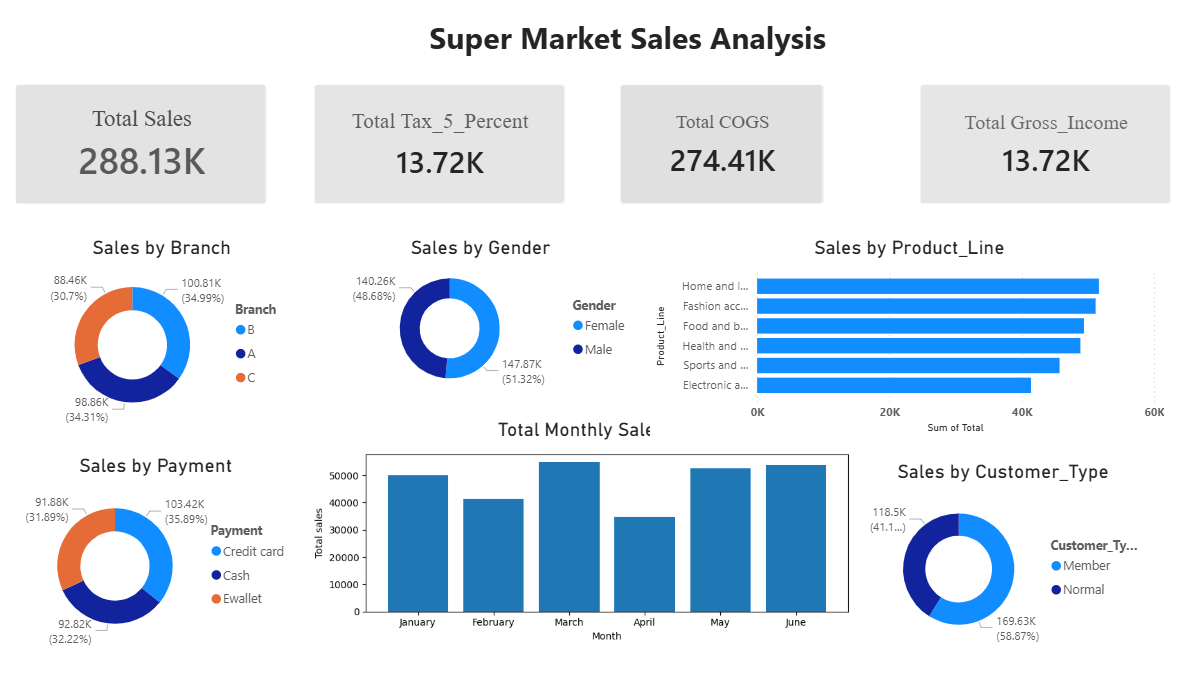

The page's visual inventory and layout, read from the dashboard file:
{"tool":"powerbi","page":{"name":"Page 1","canvas":[1280,720],"ordinal":0},"visuals":[{"type":"shape","box":[0,0,1278.9,721.1],"z":0},{"type":"textbox","box":[446.6,12.3,438.4,60.3],"z":1000},{"type":"cardVisual","fields":{"Data":["Sum(supermarket_sales_eda_processed.Total)"]},"box":[0,72.4,300,161.8],"z":2000},{"type":"cardVisual","fields":{"Data":["Sum(supermarket_sales_eda_processed.Tax_5_Percent)"]},"box":[315.8,73.7,300,161.8],"z":3000},{"type":"cardVisual","fields":{"Data":["Sum(supermarket_sales_eda_processed.COGS)"]},"box":[639.5,73.7,250,161.8],"z":4000},{"type":"cardVisual","fields":{"Data":["Sum(supermarket_sales_eda_processed.Gross_Income)"]},"box":[956.6,72.4,300,161.8],"z":5000},{"type":"donutChart","fields":{"Y":["Sum(supermarket_sales_eda_processed.Total)"],"Category":["supermarket_sales_eda_processed.Branch"]},"box":[26.6,250,290.6,206.2],"z":6000},{"type":"donutChart","title":"Sales by Gender","fields":{"Y":["Sum(supermarket_sales_eda_processed.Total)"],"Category":["supermarket_sales_eda_processed.Gender"]},"box":[341.3,250.8,336.5,171.4],"z":7000},{"type":"pythonVisual","title":"Total Monthly Sales","fields":{"Values":["supermarket_sales_eda_processed.Date.Variation.Date Hierarchy.Month","supermarket_sales_eda_processed.Total"]},"box":[300,442.2,632.8,253.1],"z":8000},{"type":"donutChart","title":"Sales by Payment","fields":{"Y":["Sum(supermarket_sales_eda_processed.Total)"],"Category":["supermarket_sales_eda_processed.Payment"]},"box":[15.6,481.2,300,214.1],"z":9000},{"type":"donutChart","title":"Sales by Customer_Type","fields":{"Y":["Sum(supermarket_sales_eda_processed.Total)"],"Category":["supermarket_sales_eda_processed.Customer_Type"]},"box":[912.5,487.5,300,207.8],"z":10000},{"type":"clusteredBarChart","title":"Sales by Product_Line","fields":{"Y":["Sum(supermarket_sales_eda_processed.Total)"],"Category":["supermarket_sales_eda_processed.Product_Line"]},"box":[688.9,250.8,549.2,212.7],"z":11000}]}

Visuals, with their boxes in screenshot pixels (x1, y1, x2, y2), scaled from the page's 1280x720 canvas onto the 1204x676 screenshot:
shape: (0, 0, 1203, 675)
textbox: (420, 12, 832, 68)
cardVisual - Sum(supermarket_sales_eda_processed.Total): (0, 68, 282, 220)
cardVisual - Sum(supermarket_sales_eda_processed.Tax_5_Percent): (297, 69, 579, 221)
cardVisual - Sum(supermarket_sales_eda_processed.COGS): (602, 69, 837, 221)
cardVisual - Sum(supermarket_sales_eda_processed.Gross_Income): (900, 68, 1182, 220)
donutChart - Sum(supermarket_sales_eda_processed.Total) x supermarket_sales_eda_processed.Branch: (25, 235, 298, 428)
"Sales by Gender" donutChart: (321, 235, 638, 396)
"Total Monthly Sales" pythonVisual: (282, 415, 877, 653)
"Sales by Payment" donutChart: (15, 452, 297, 653)
"Sales by Customer_Type" donutChart: (858, 458, 1141, 653)
"Sales by Product_Line" clusteredBarChart: (648, 235, 1165, 435)
